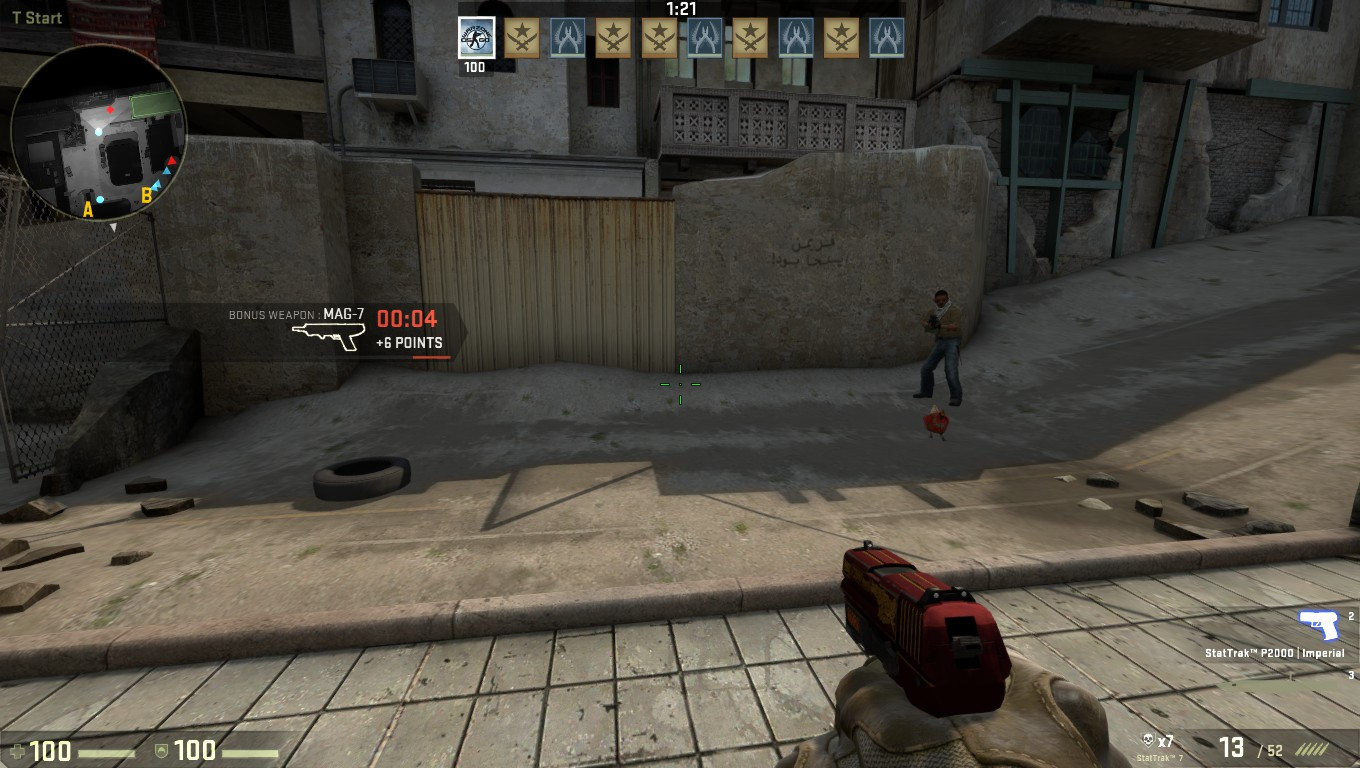t: (919, 286, 965, 407)
th: (930, 288, 953, 311)
